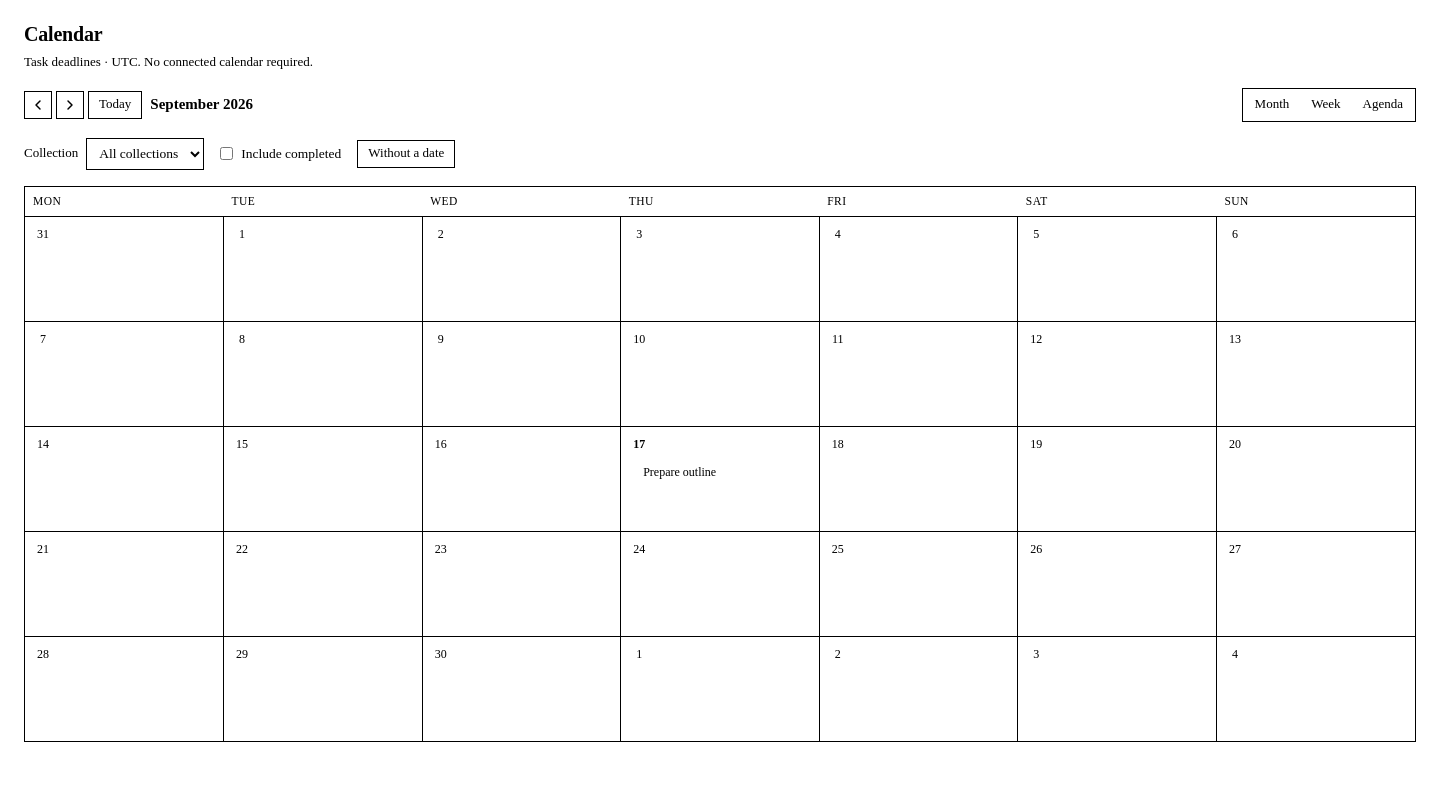
Test: deadline calendar › reads a week as seven days and an agenda as dated groups
What coordinates should you click on to do the following:
click the button "Week"
I would click on:
 (1326, 105)
Its box is [1301,91,1351,119].
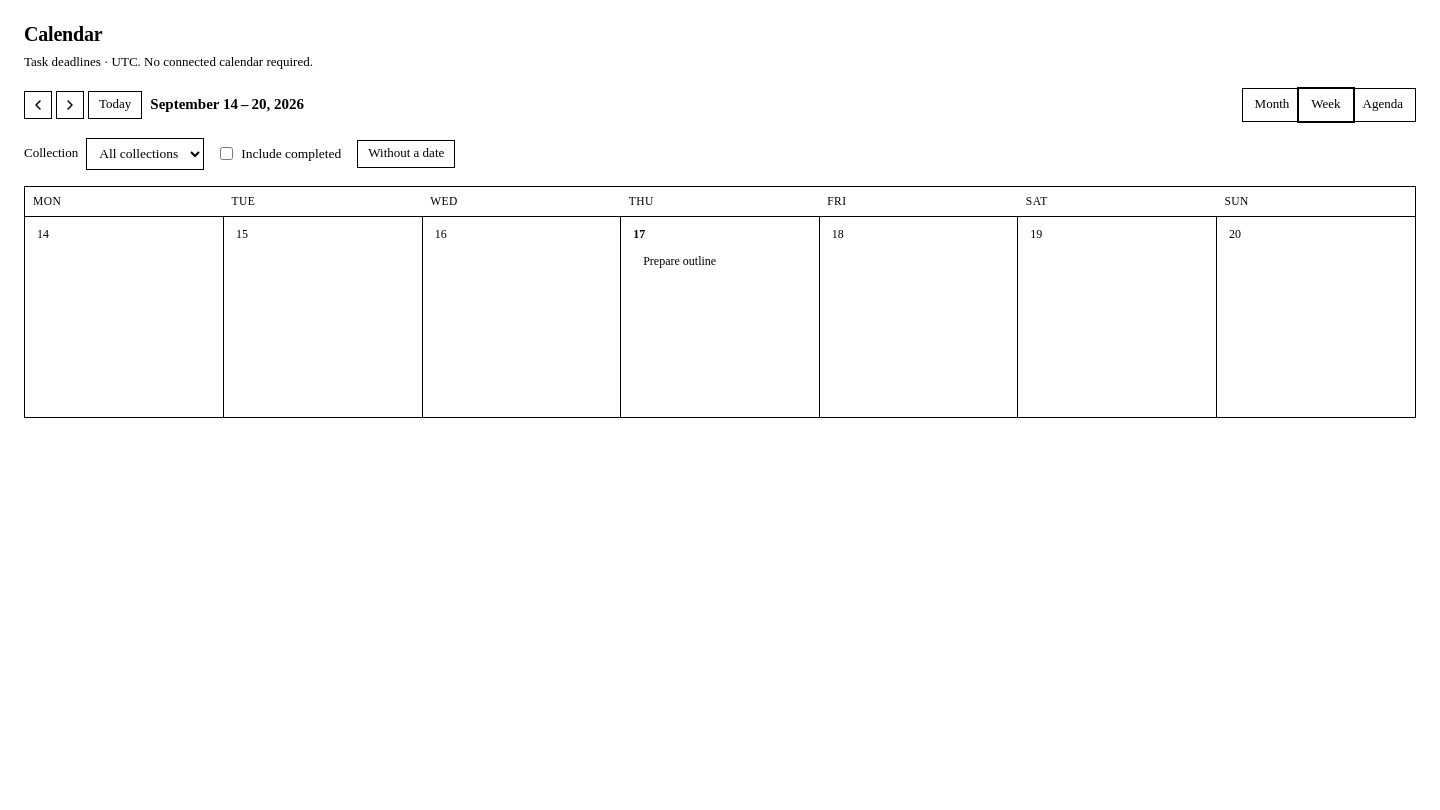
Expected: the button named "Previous week" is shown, [24,91,52,119]
What coordinates should you click on to do the following:
click the button "Agenda"
I would click on:
 (1383, 105)
Its box is [1353,91,1413,119].
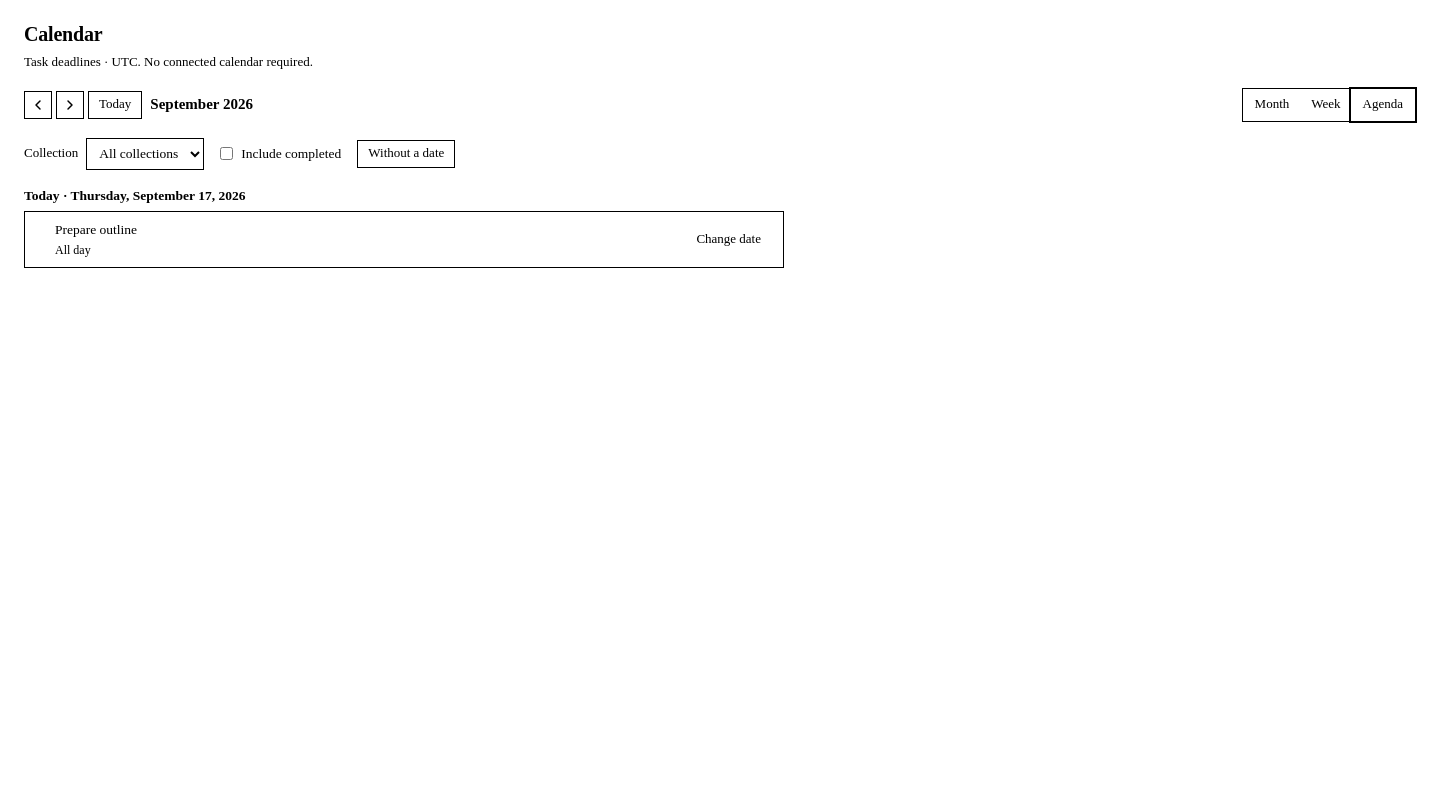
Expected: the link "Prepare outline" is shown, [55,222,137,237]
Now the table is gone
